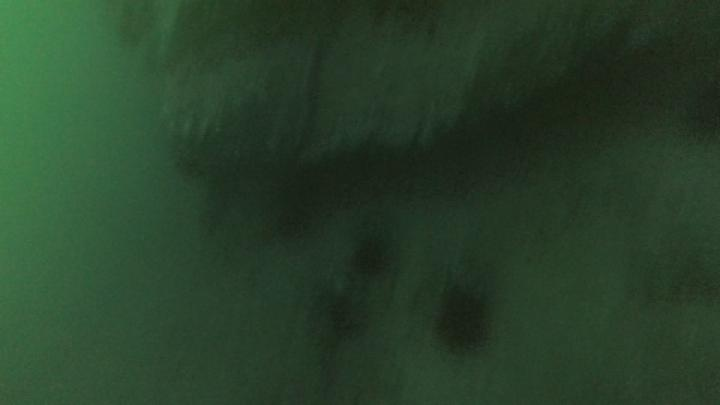echinus: (428, 274, 499, 358), (349, 231, 395, 281)
